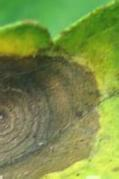Tomato Early blight leaf: (0, 10, 119, 179)
